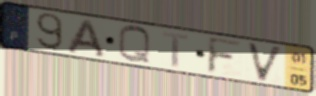9: (33, 12, 65, 52)
A: (64, 17, 108, 60)
F: (205, 35, 245, 76)
Q: (116, 24, 153, 67)
T: (161, 30, 191, 69)
V: (245, 41, 286, 84)
